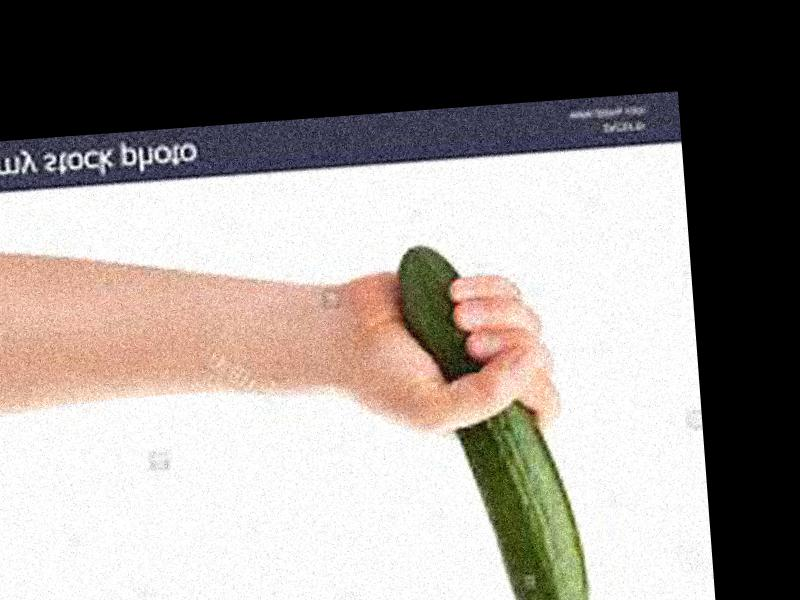Cucumber: (399, 236, 593, 600)
